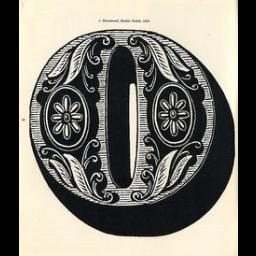o: (18, 29, 232, 229)
